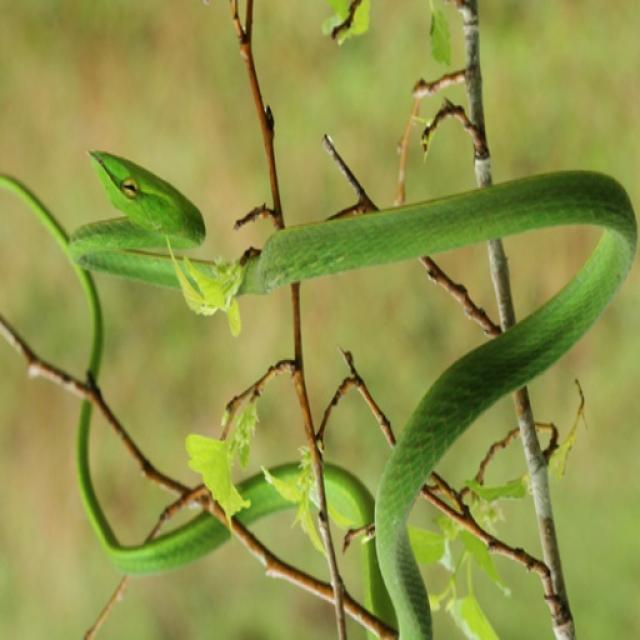snake: (58, 132, 632, 344)
